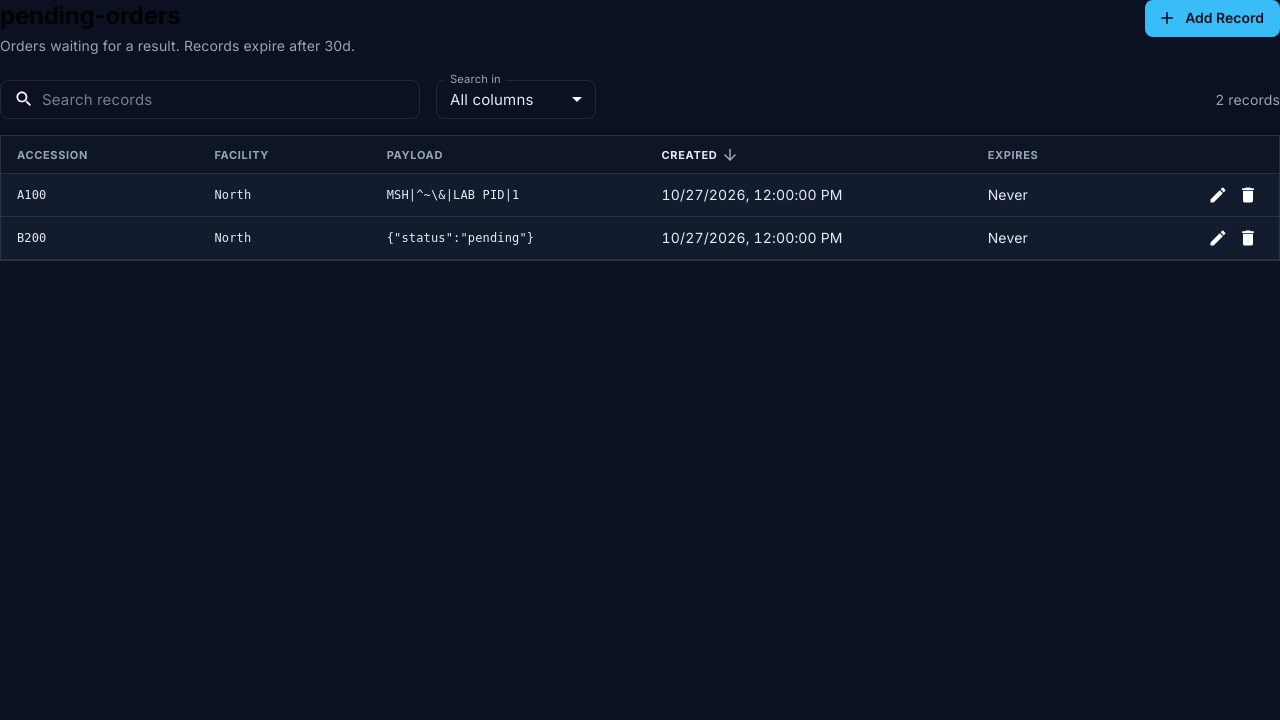
Test case: CollectionRecordsPage › shows the server error in the dialog and keeps it open when a save fails
Step 1. Click the button "Add Record" → (1213, 18), box [1145,0,1279,36]
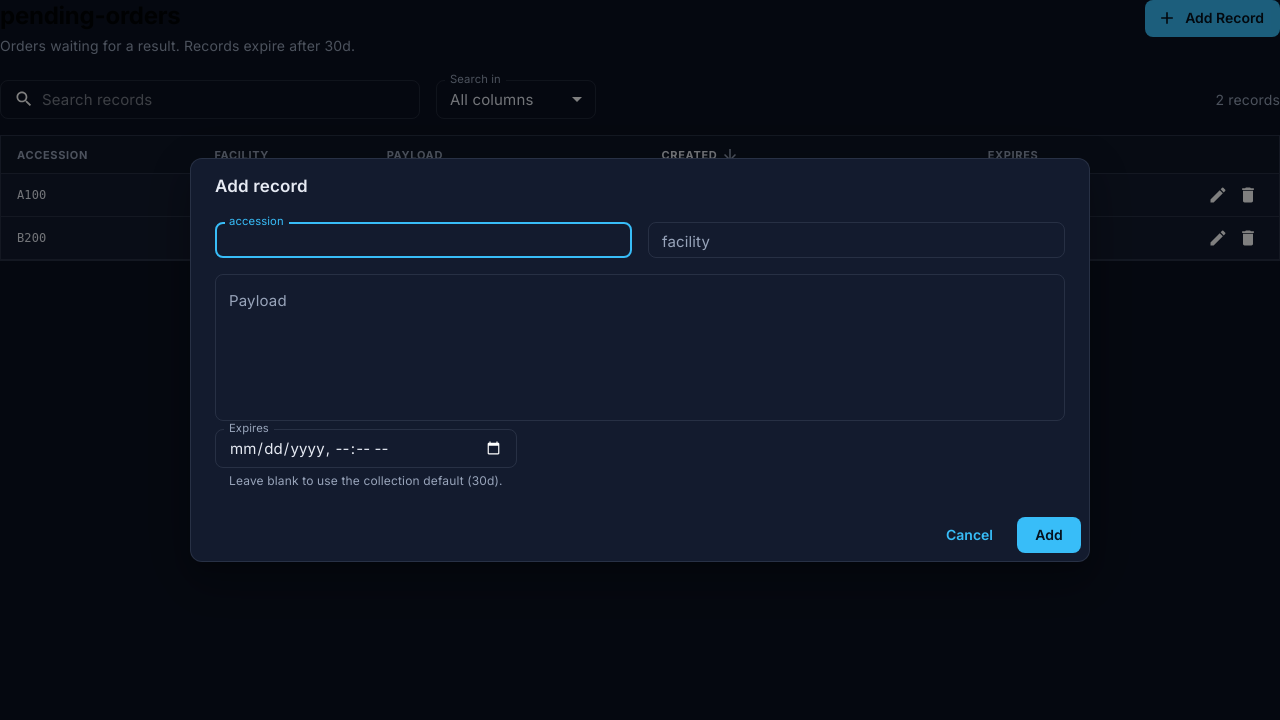
Step 2. Click the button "Add" → (1049, 535), box [1017,517,1081,554]
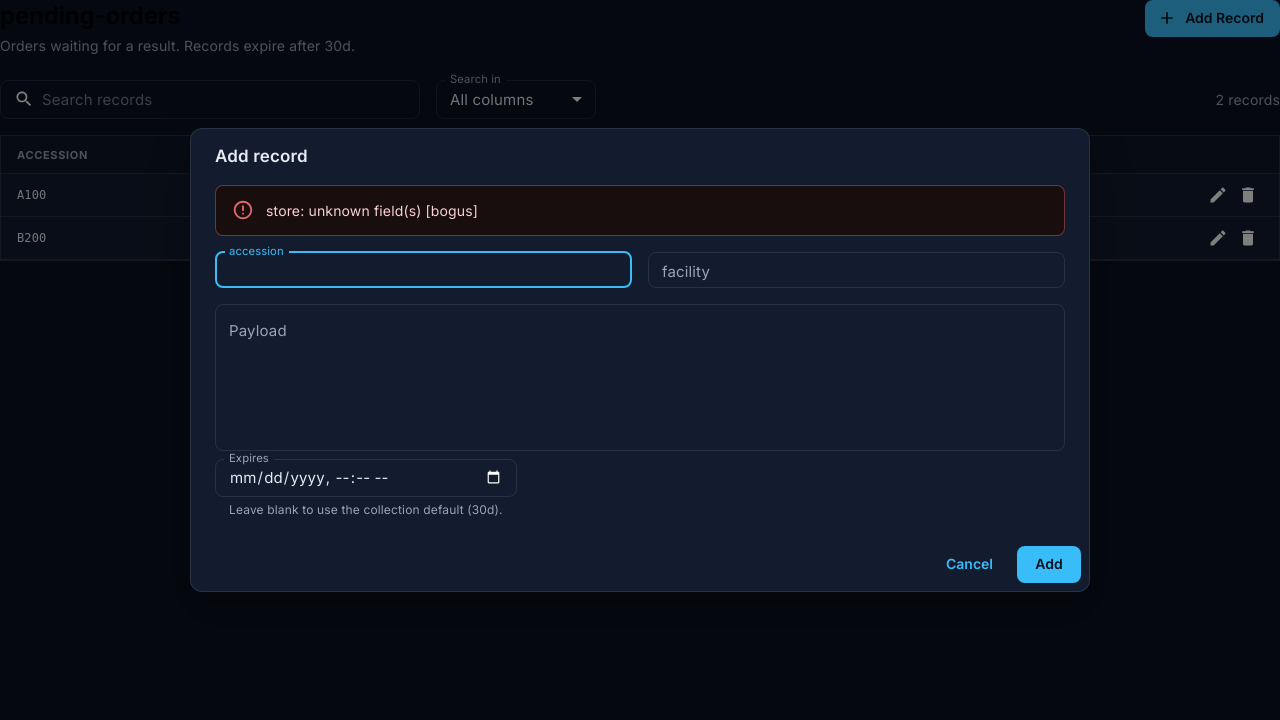
Result: the dialog "Add record" is shown at [190,128,1090,592]
Result: the text "store: unknown field(s) [bogus]" is shown at [266,202,478,219]
